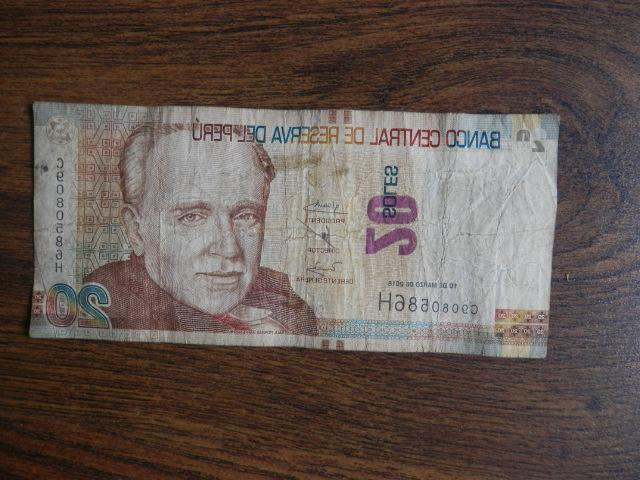B20: (30, 101, 559, 360)
